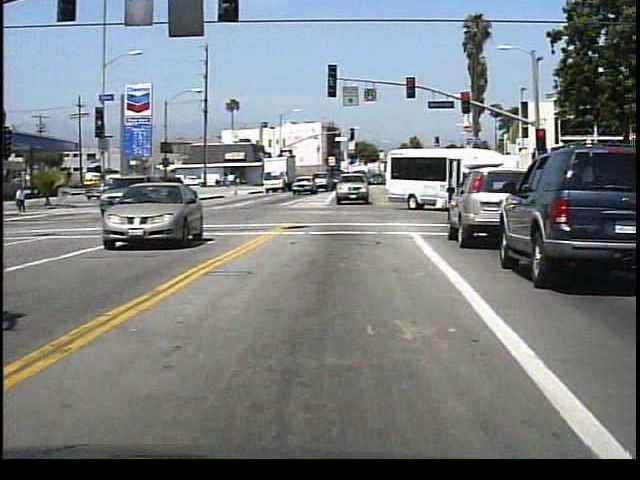person: (14, 181, 33, 217)
